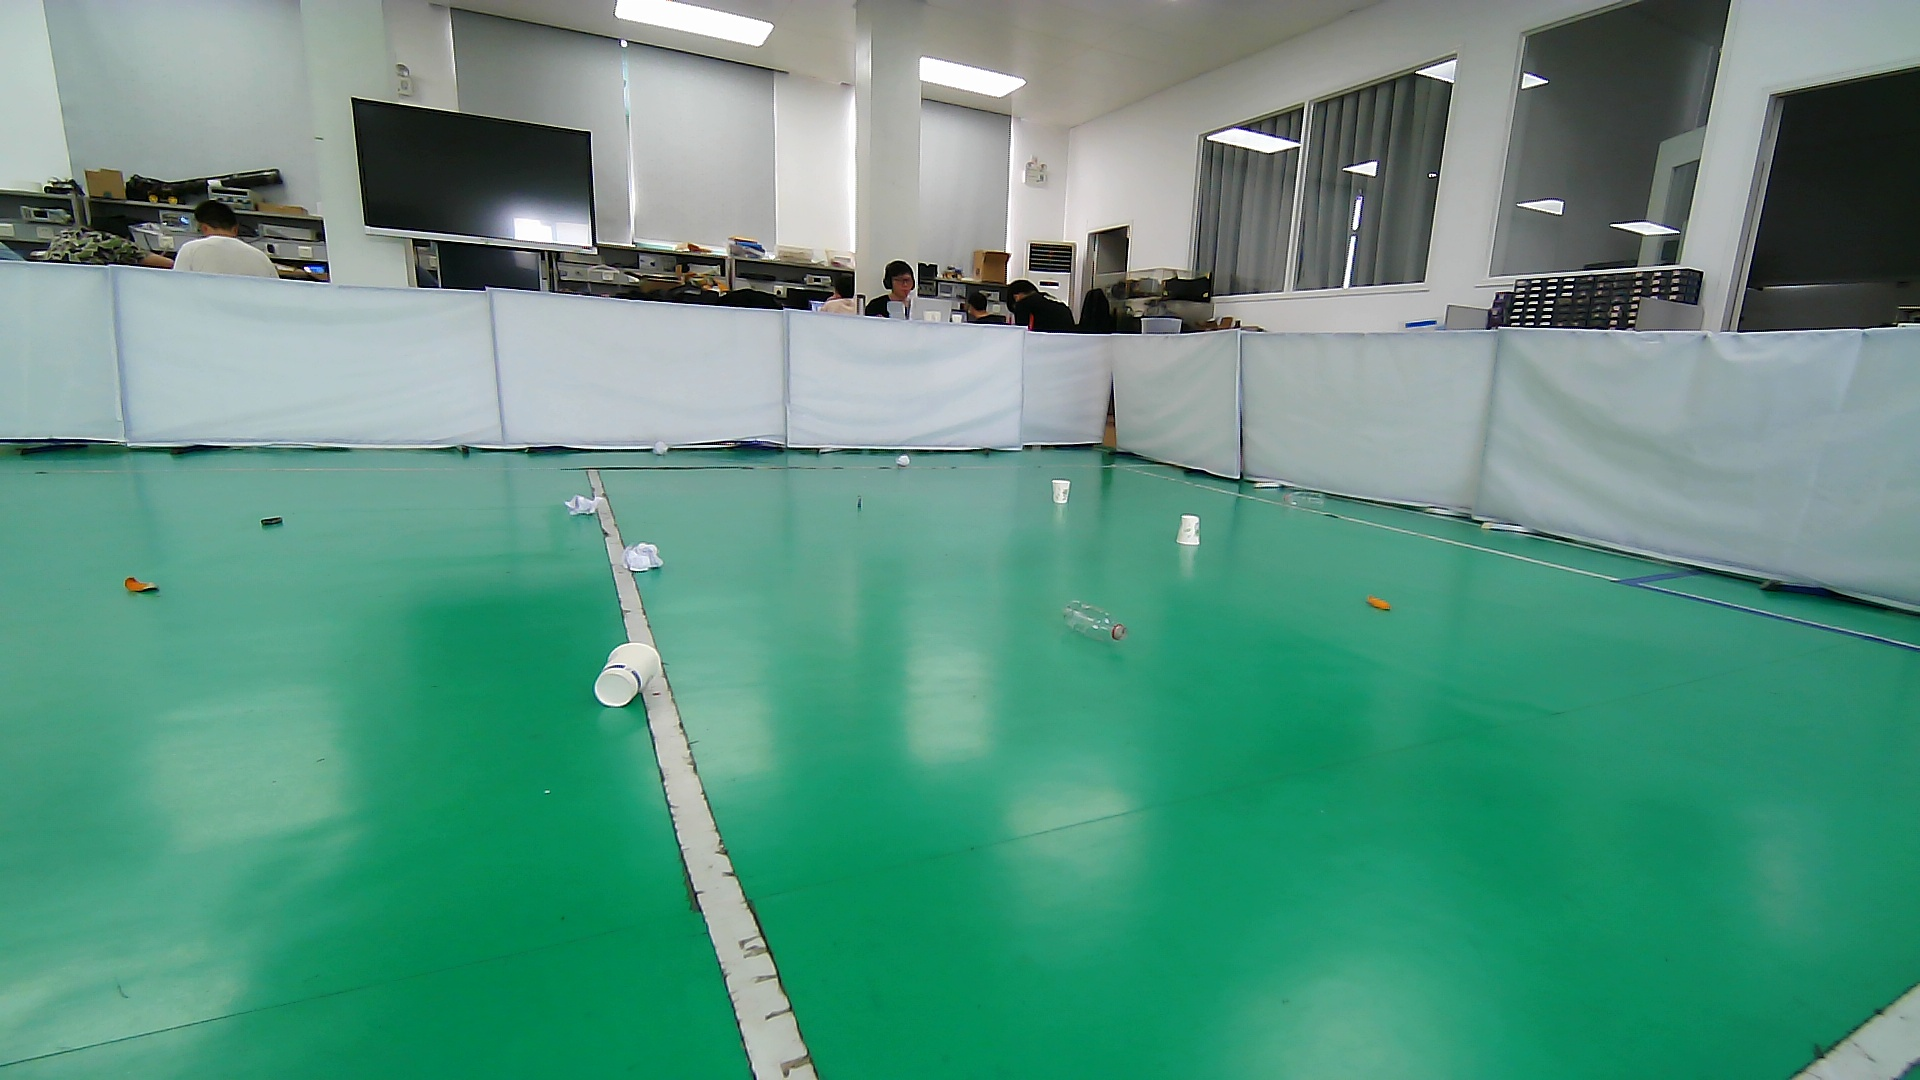battery: (253, 509, 290, 533), (851, 489, 869, 520)
bottle: (1058, 596, 1129, 645), (1279, 489, 1327, 512)
orangepeel: (119, 571, 166, 597), (1360, 589, 1399, 615)
papercup: (593, 642, 662, 709), (1174, 512, 1203, 547), (1048, 476, 1073, 506)
spitball: (617, 537, 665, 575), (564, 491, 605, 516), (893, 454, 913, 469)
